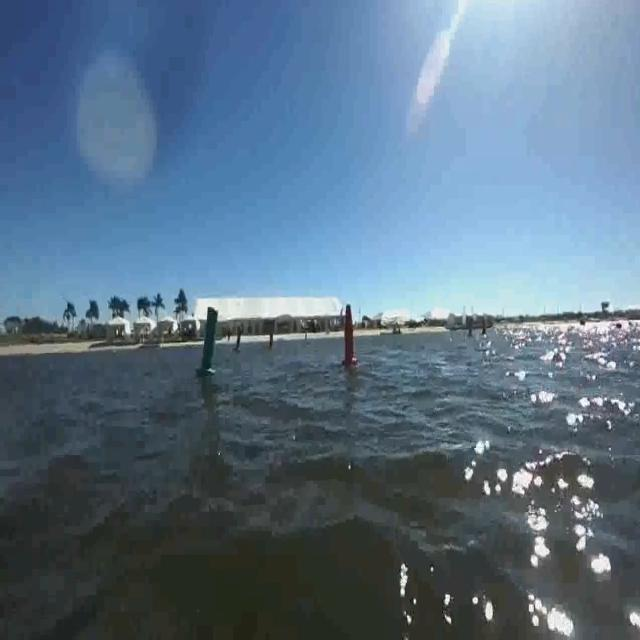green-column-buoy: (197, 306, 221, 377), (235, 327, 245, 353)
red-column-buoy: (340, 304, 360, 369), (268, 328, 277, 352)
